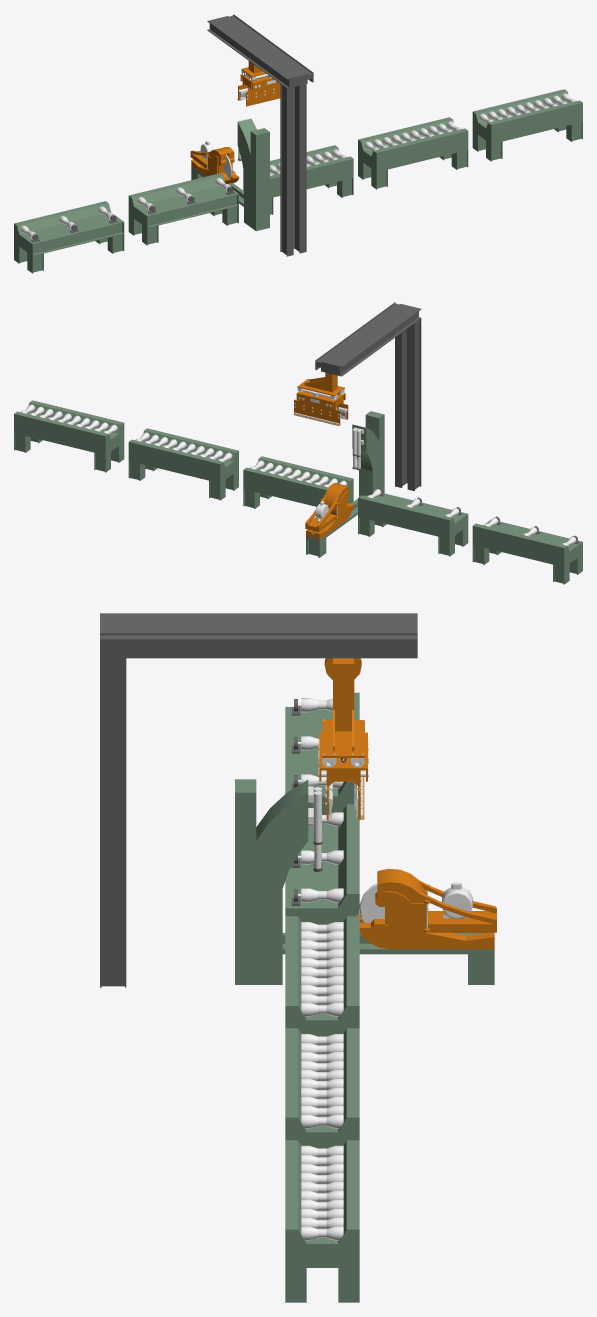
File: SawingMachine.obj
3 views of the same model, one above another, from view 1: azimuth 30°, elevation 25°; view 2: azimuth 150°, elevation 25°; view 3: azimuth 270°, elevation 25° (orthographic). The views are drawn at different scales.
Visible parts, largest first — view 1: Sawing_Machine; view 2: Sawing_Machine; view 3: Sawing_Machine.
Part boxes in pixels (bbox=[...]): Sawing_Machine: bbox=[14, 14, 582, 273]; Sawing_Machine: bbox=[14, 302, 582, 584]; Sawing_Machine: bbox=[100, 613, 496, 1302].
Size of the model in its own units: 600 by 185 by 187.
